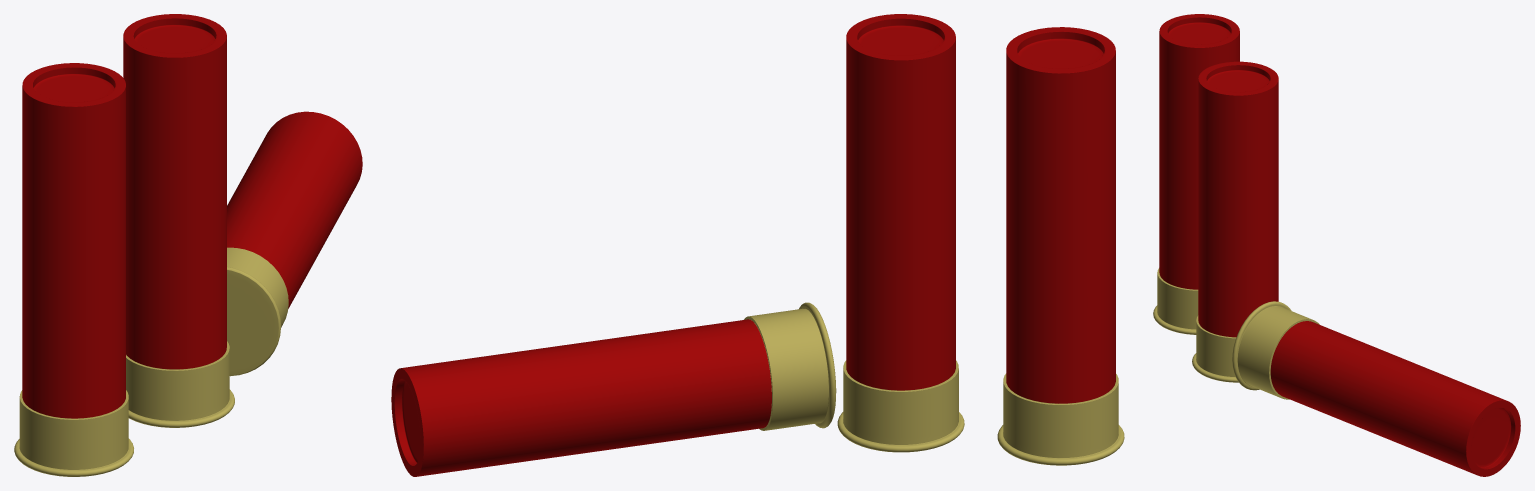
Rendered from cartouches.glb.
The picture shows the model from 3 angles, left to right: view 1: azimuth 30°, elevation 25°; view 2: azimuth 150°, elevation 25°; view 3: azimuth 270°, elevation 25°; orthographic projection. The views are drawn at different scales.
Parts seen in each view (by area): view 1: pCone1, pCone2, pCone3; view 2: pCone3, pCone1, pCone2; view 3: pCone3, pCone2, pCone1.
Part boxes in pixels (x1,y1,x2,y2): pCone1: (14, 63, 133, 476); pCone2: (123, 14, 234, 427); pCone3: (227, 111, 362, 376); pCone3: (391, 302, 836, 476); pCone1: (997, 27, 1124, 465); pCone2: (837, 14, 964, 452); pCone3: (1232, 301, 1520, 476); pCone2: (1192, 61, 1278, 382); pCone1: (1153, 14, 1239, 334).
Bounding box in the file's own units: 0.1126 × 0.0772 × 0.0903.
